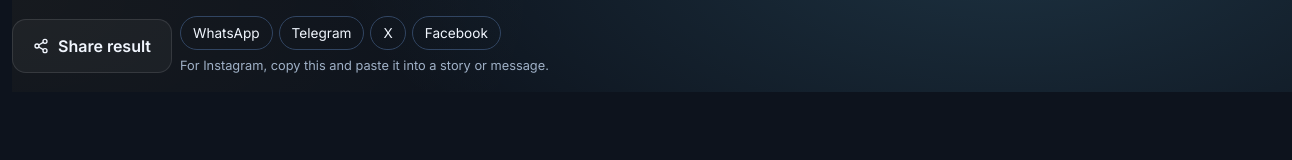
Test: ShareButton › without a share sheet it copies and links to WhatsApp, Telegram, X and Facebook
Expected: the link "Telegram" is shown, [279,16,364,50]
Expected: the link "X" is shown, [370,16,406,50]
Click the button: click(92, 46) [12,19,172,73]
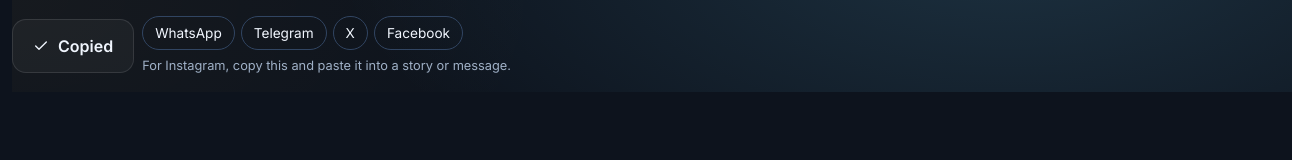
Expected: the button reads "Copied", [12,19,134,73]
